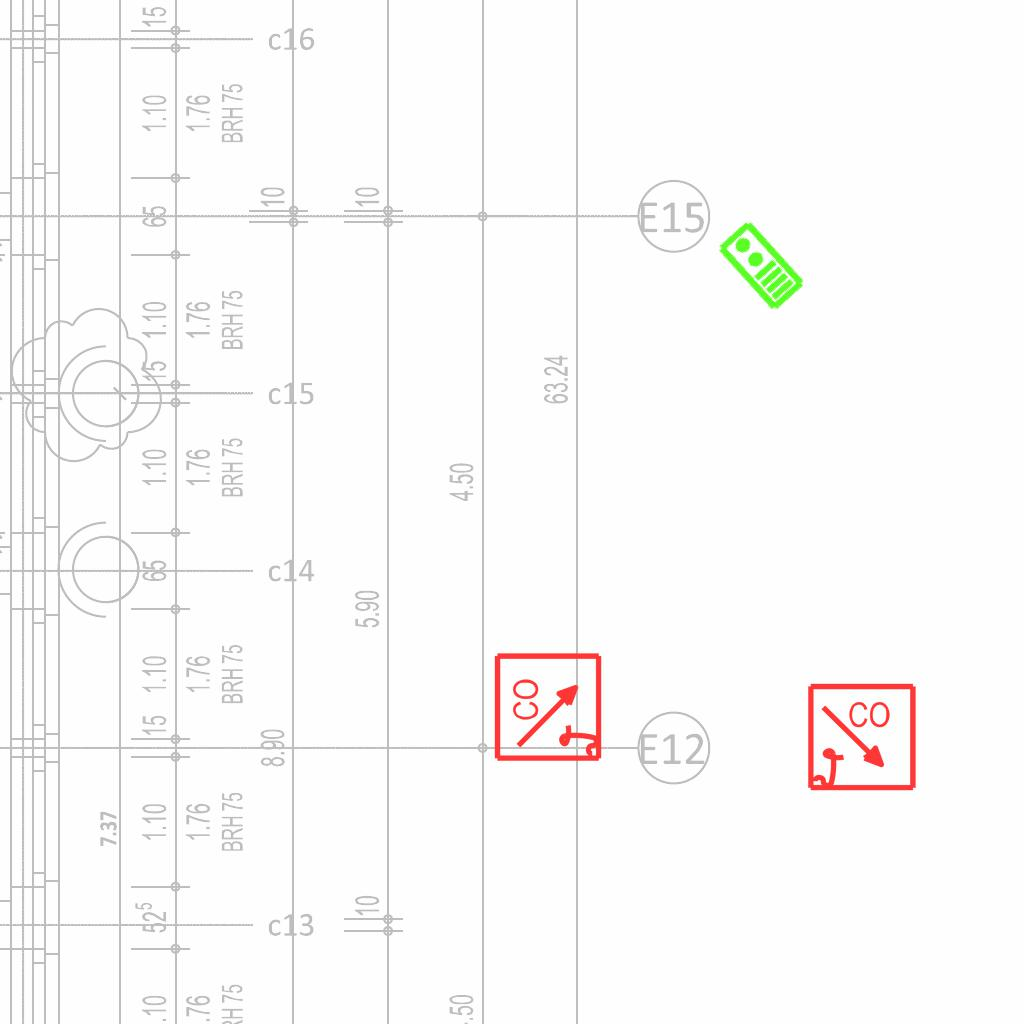Gegensprechanlage_mit_Video: (713, 217, 808, 315)
ROA_Rauchmelder_optisch_mit_Signalgeber_(Sockelsirene): (493, 650, 606, 763), (806, 682, 919, 795)
